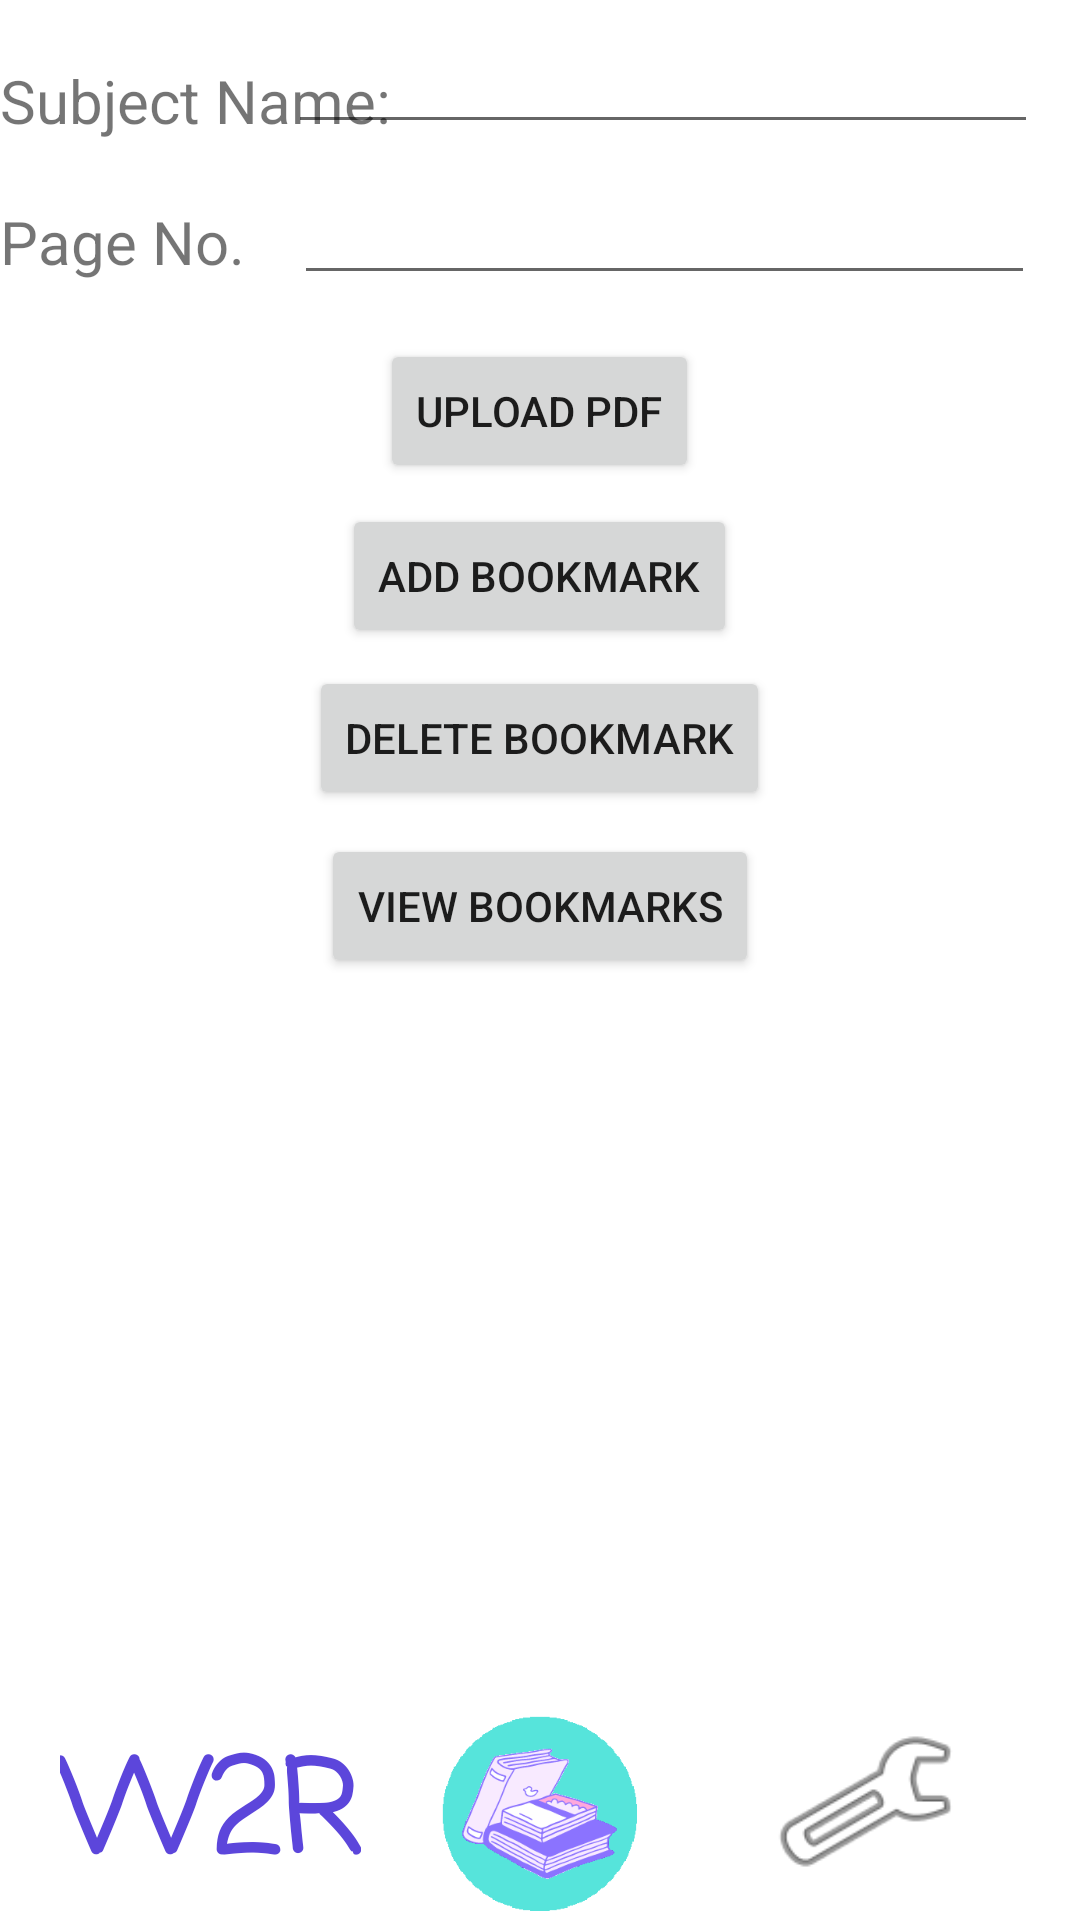

Point at icon controls on the screen. Image size 1080×1920, points as [x,y].
manage: [865,1801]
